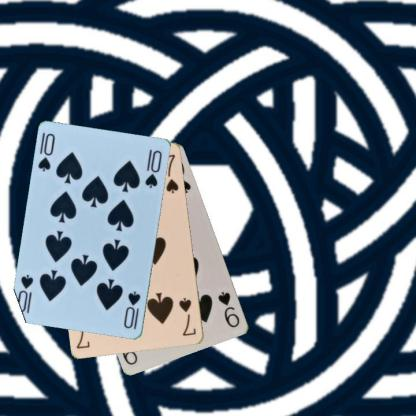10s: (35, 130, 57, 173), (121, 289, 142, 331)
7s: (176, 296, 198, 338)
9s: (216, 289, 242, 329)
